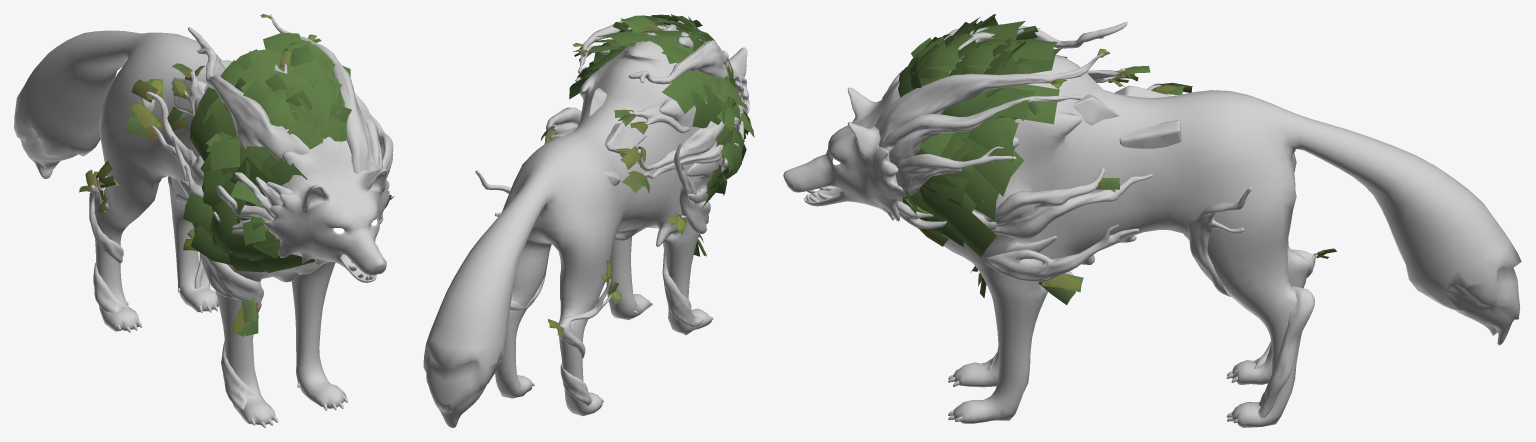
The model's file is Wolf.fbx.
3 renders of one model, left to right at view 1: azimuth 30°, elevation 25°; view 2: azimuth 150°, elevation 25°; view 3: azimuth 270°, elevation 25°, orthographic. The views are drawn at different scales.
Parts seen in each view (by area): view 1: Wolf_Body_geo, Wolf_Shrubs, Wolf_Branches_geo, Wolf_Leaves_geo, Wolf_Rocks_geo; view 2: Wolf_Body_geo, Wolf_Branches_geo, Wolf_Shrubs, Wolf_Leaves_geo, Wolf_Rocks_geo; view 3: Wolf_Body_geo, Wolf_Branches_geo, Wolf_Shrubs, Wolf_Leaves_geo, Wolf_Rocks_geo.
Boxes of the visible parts, <box> form: Wolf_Body_geo: <box>14,30,389,427</box>; Wolf_Shrubs: <box>183,32,394,272</box>; Wolf_Branches_geo: <box>89,14,393,410</box>; Wolf_Leaves_geo: <box>79,14,321,336</box>; Wolf_Rocks_geo: <box>139,60,231,114</box>; Wolf_Body_geo: <box>423,20,749,427</box>; Wolf_Branches_geo: <box>475,21,743,405</box>; Wolf_Shrubs: <box>569,14,754,209</box>; Wolf_Leaves_geo: <box>541,23,706,337</box>; Wolf_Rocks_geo: <box>550,88,646,185</box>; Wolf_Body_geo: <box>783,27,1521,427</box>; Wolf_Branches_geo: <box>875,21,1317,418</box>; Wolf_Shrubs: <box>882,14,1067,257</box>; Wolf_Leaves_geo: <box>918,34,1336,304</box>; Wolf_Rocks_geo: <box>1072,85,1181,148</box>.
Size of the model in its own units: 99.81 by 178 by 317.
